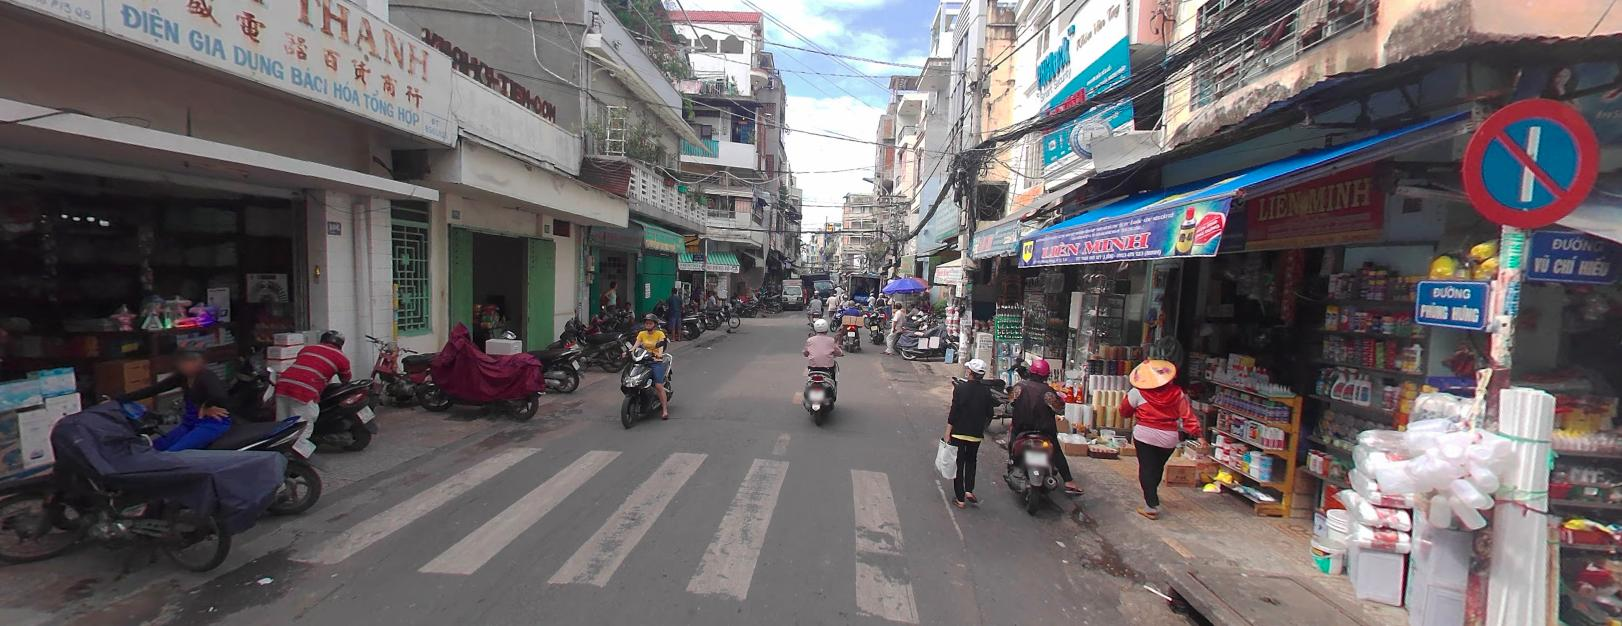Cam dung va do: (1460, 98, 1598, 225)
